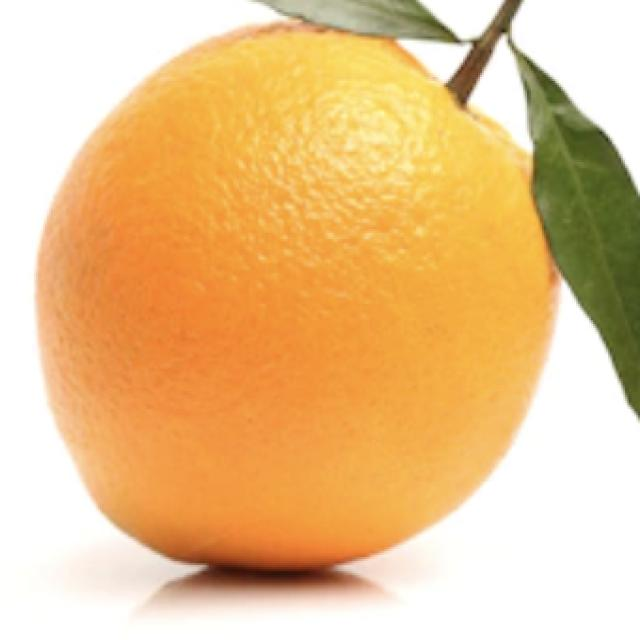orange: (31, 9, 574, 586)
